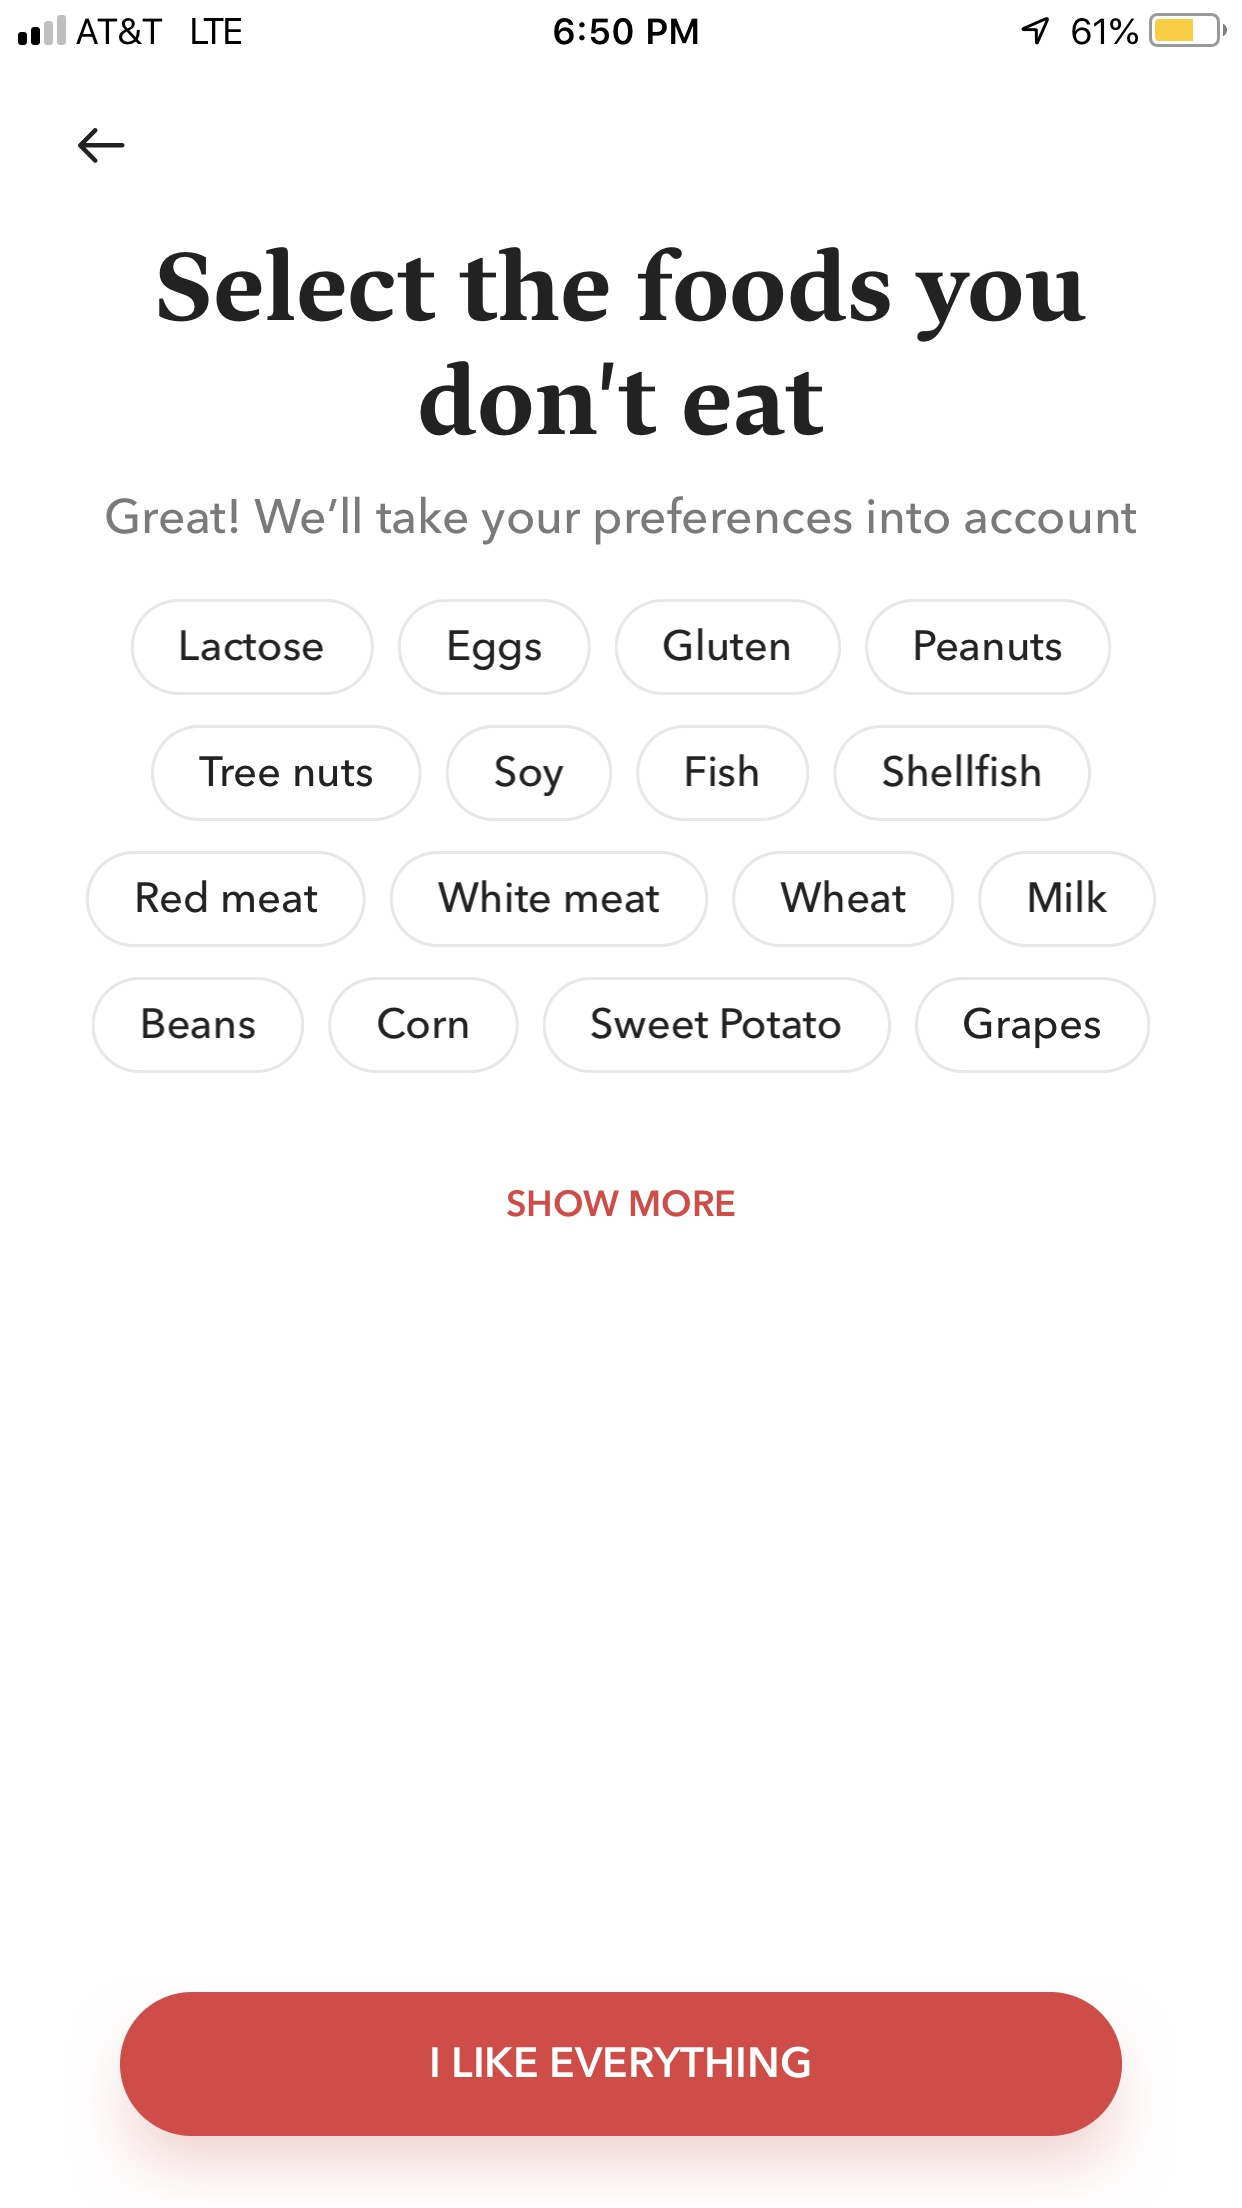Icon: (77, 129, 126, 165)
Text: (158, 246, 1087, 437), (106, 496, 1137, 547), (507, 1189, 735, 1218)
TextButton: (120, 1993, 1124, 2137), (541, 977, 892, 1074), (390, 851, 710, 948), (86, 851, 369, 948), (152, 725, 425, 823), (833, 725, 1092, 823), (864, 597, 1112, 696), (130, 599, 376, 696), (914, 977, 1151, 1074), (614, 597, 842, 696), (731, 851, 955, 949), (93, 977, 306, 1074), (397, 597, 593, 696), (328, 977, 520, 1075), (977, 851, 1157, 948), (635, 723, 810, 822), (444, 723, 613, 822)
UpperTaskBar: (2, 2, 1242, 49)
